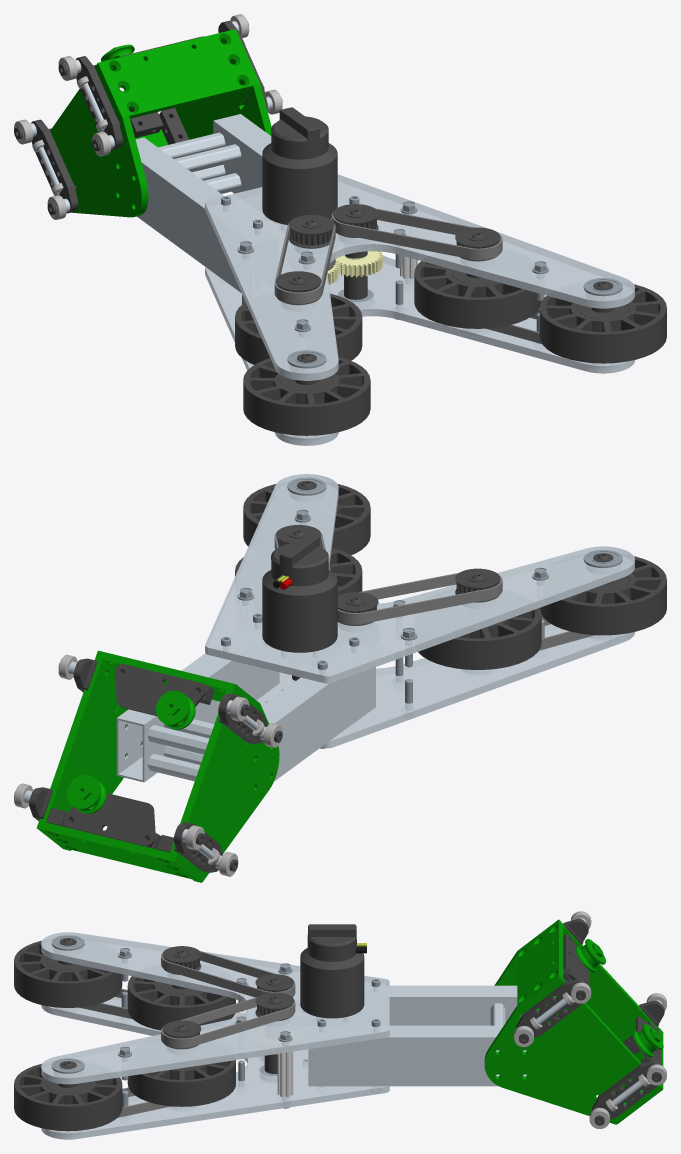
3 views of the same model, one above another, from view 1: azimuth 30°, elevation 25°; view 2: azimuth 150°, elevation 25°; view 3: azimuth 270°, elevation 25° (orthographic). The views are drawn at different scales.
Parts seen in each view (by area): view 1: polycarb plate (×2), 4" OD 1/2" Hex Bore Compliant Wheel 35A (am-3480) (×4), 2"x6"x.25" (×2), Tube 2"x1"x8.5" (×2), 2"x4.5"x.25", Simplified Falcon500 V1/V2, 65T HTD Belt (×2), 22T Custom Pulley (×4), Sliding Bearing Block Plate - SLIDE-001 (×2), 1/2" Shaft (×2), 32t 20dp Aluminum 1/2" Hex Bore Gear (217-5470), Carriage Nut Strip; view 2: polycarb plate (×2), 4" OD 1/2" Hex Bore Compliant Wheel 35A (am-3480) (×4), 2"x6"x.25" (×2), Tube 2"x1"x8.5" (×2), Simplified Falcon500 V1/V2, Part 14 (×2), 2"x4.5"x.25" (×2), 65T HTD Belt, Dyneema Tensioning CAM ELEV-PULLEY-003 (×2), Sliding Bearing Block Plate - SLIDE-001 (×2), 1/2" Shaft (×2), 22T Custom Pulley (×2); view 3: polycarb plate (×2), 4" OD 1/2" Hex Bore Compliant Wheel 35A (am-3480) (×4), Tube 2"x1"x8.5" (×2), 2"x6"x.25" (×2), Simplified Falcon500 V1/V2, 65T HTD Belt (×2), Sliding Bearing Block Plate - SLIDE-001 (×4), 2"x4.5"x.25", 22T Custom Pulley (×4), Dyneema Tensioning CAM ELEV-PULLEY-003 (×2), 70T HTD Belt (×2), Part 14 (+2 smaller).
Boxes of the visible parts, <box> form: polycarb plate (×2): <box>205,174,634,445</box>; 4" OD 1/2" Hex Bore Compliant Wheel 35A (am-3480) (×4): <box>235,261,666,435</box>; 2"x6"x.25" (×2): <box>50,29,271,217</box>; Tube 2"x1"x8.5" (×2): <box>135,114,271,292</box>; 2"x4.5"x.25": <box>105,30,253,118</box>; Simplified Falcon500 V1/V2: <box>262,107,337,224</box>; 65T HTD Belt (×2): <box>274,208,502,303</box>; 22T Custom Pulley (×4): <box>276,204,500,304</box>; Sliding Bearing Block Plate - SLIDE-001 (×2): <box>31,56,122,213</box>; 1/2" Shaft (×2): <box>158,132,241,172</box>; 32t 20dp Aluminum 1/2" Hex Bore Gear (217-5470): <box>335,251,382,277</box>; Carriage Nut Strip: <box>159,108,189,144</box>; polycarb plate (×2): <box>205,474,634,748</box>; 4" OD 1/2" Hex Bore Compliant Wheel 35A (am-3480) (×4): <box>235,484,666,669</box>; 2"x6"x.25" (×2): <box>36,650,279,882</box>; Tube 2"x1"x8.5" (×2): <box>116,653,375,782</box>; Simplified Falcon500 V1/V2: <box>262,534,337,652</box>; Part 14 (×2): <box>64,664,206,846</box>; 2"x4.5"x.25" (×2): <box>43,652,228,878</box>; 65T HTD Belt: <box>337,573,502,624</box>; Dyneema Tensioning CAM ELEV-PULLEY-003 (×2): <box>67,690,195,813</box>; Sliding Bearing Block Plate - SLIDE-001 (×2): <box>173,693,267,872</box>; 1/2" Shaft (×2): <box>148,725,209,781</box>; 22T Custom Pulley (×2): <box>337,568,500,625</box>; polycarb plate (×2): <box>41,932,389,1139</box>; 4" OD 1/2" Hex Bore Compliant Wheel 35A (am-3480) (×4): <box>14,940,235,1131</box>; Tube 2"x1"x8.5" (×2): <box>308,985,526,1086</box>; 2"x6"x.25" (×2): <box>484,919,663,1124</box>; Simplified Falcon500 V1/V2: <box>300,924,366,1018</box>; 65T HTD Belt (×2): <box>161,950,295,1047</box>; Sliding Bearing Block Plate - SLIDE-001 (×4): <box>516,918,664,1119</box>; 2"x4.5"x.25": <box>517,922,563,1004</box>; 22T Custom Pulley (×4): <box>162,946,293,1048</box>; Dyneema Tensioning CAM ELEV-PULLEY-003 (×2): <box>575,939,663,1057</box>; 70T HTD Belt (×2): <box>79,989,170,1117</box>; Part 14: <box>563,934,589,985</box>.
Size of the model in its own units: 0.3747 by 0.1748 by 0.6119.
